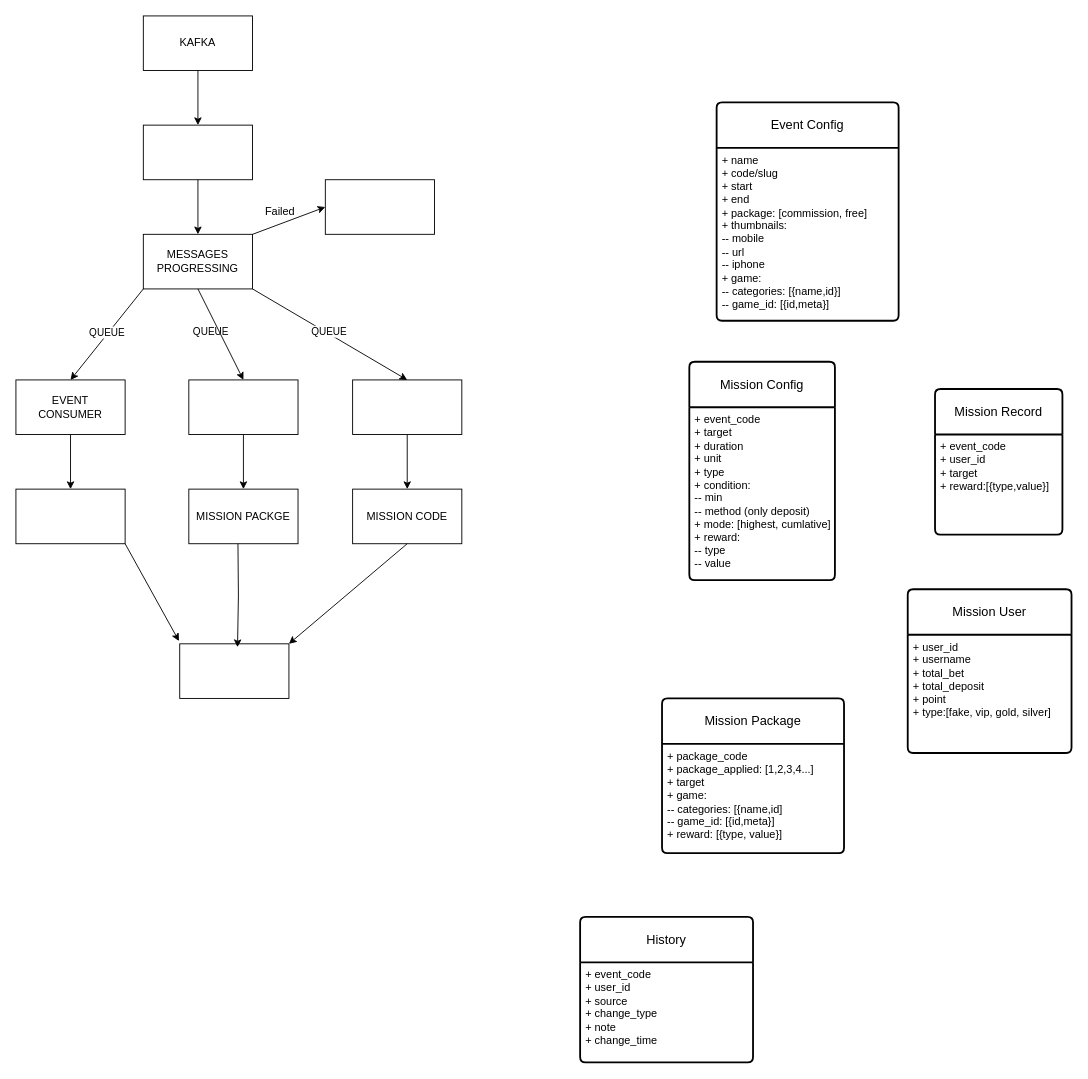
This 1088x1079 diagram has some shape labels left out. Here are the shapes that lost their labels. From the top down, the centre of each, then its label:
At pixel 197 152: "CONSUMERS".
At pixel 379 206: "DEAD QUEUE".
At pixel 243 407: "PACKAGE CONSUMER".
At pixel 407 407: "GIFTCODE CONSUMER".
At pixel 70 516: "MISSION EVENT".
At pixel 234 670: "REWARD SEVICE".
